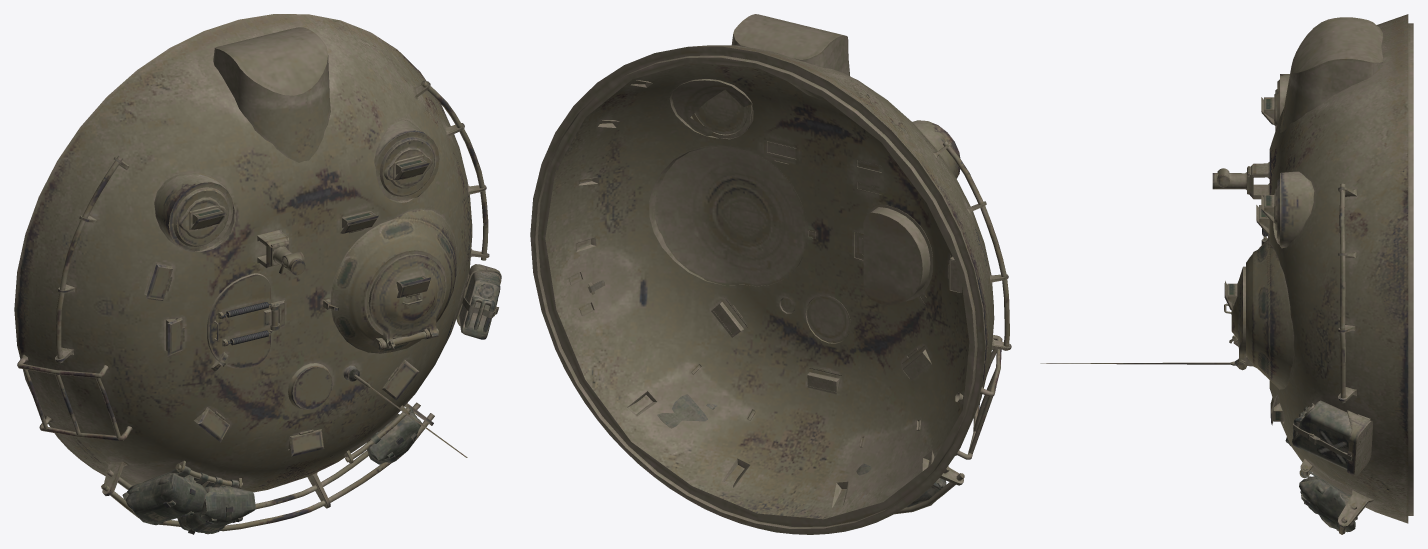
The model's file is Turret_01.glb.
3 views of the same model, side by side, from view 1: azimuth 30°, elevation 25°; view 2: azimuth 150°, elevation 25°; view 3: azimuth 270°, elevation 25° (orthographic). The views are drawn at different scales.
Visible parts, largest first — view 1: set_0_group_0, set_0_group_1; view 2: set_0_group_0, set_0_group_1; view 3: set_0_group_0, set_0_group_1.
Boxes of the visible parts, x1,y1,x2,y2 form: set_0_group_0: [14, 14, 501, 534]; set_0_group_1: [122, 405, 421, 534]; set_0_group_0: [530, 14, 1011, 534]; set_0_group_1: [657, 364, 946, 507]; set_0_group_0: [1040, 14, 1413, 534]; set_0_group_1: [1285, 437, 1357, 532].
Bounding box in the file's own units: 3.43 × 3.38 × 2.43.
2 materials, 2 textured.
